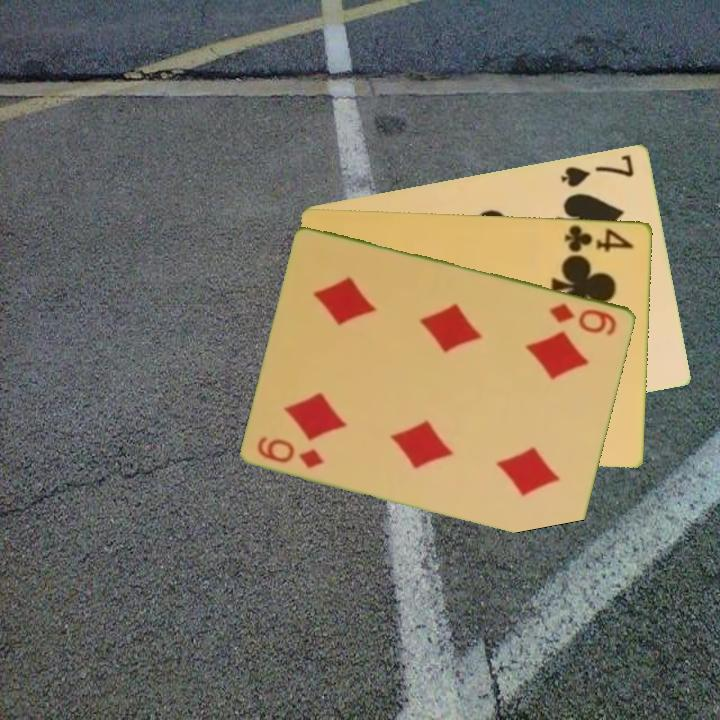4c: (562, 221, 637, 255)
6d: (546, 299, 620, 338), (254, 432, 327, 471)
7s: (557, 150, 637, 190)
